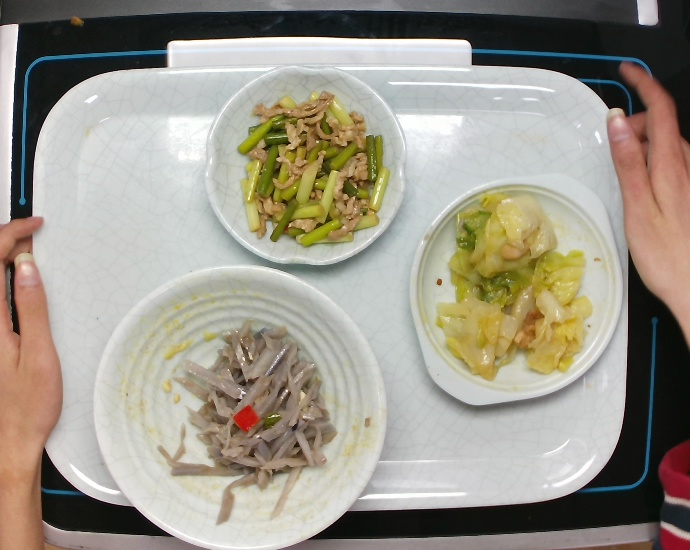JYsf-Ao_Yuan_Wan: (200, 61, 414, 271)
JYsf-Shuang_Er_Pan: (401, 165, 633, 411)
JYsf-Xiao_Tang_Wan: (88, 261, 392, 550)
